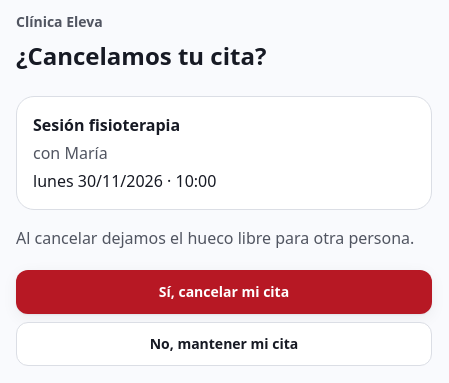
it: PantallaCancelacion (003) › [003][FR-017][US2-AC5] si el POST responde fuera de plazo (422) se muestra la situación real
Click the button "Sí, cancelar mi cita" at (224, 292), box [16,270,432,314]
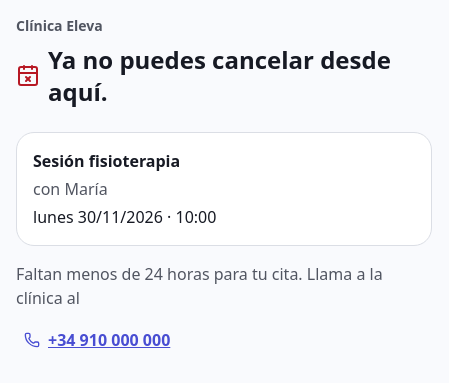
Check: the heading "Ya no puedes cancelar desde aquí." is shown, box [16,44,432,108]
